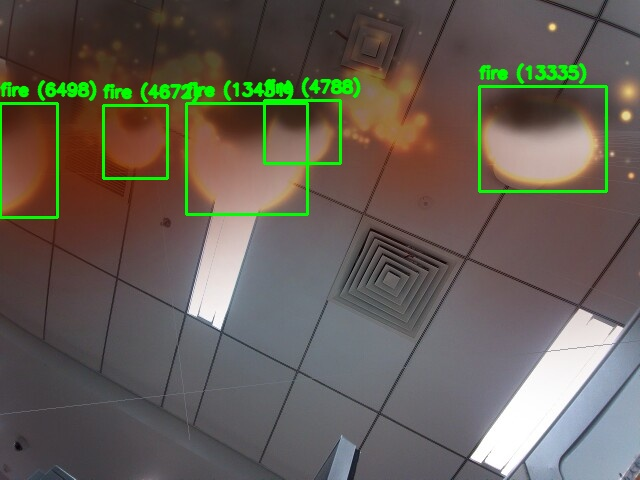fire: (186, 103, 307, 214), (479, 86, 606, 191), (0, 103, 57, 217), (264, 100, 340, 163), (103, 105, 167, 178)
